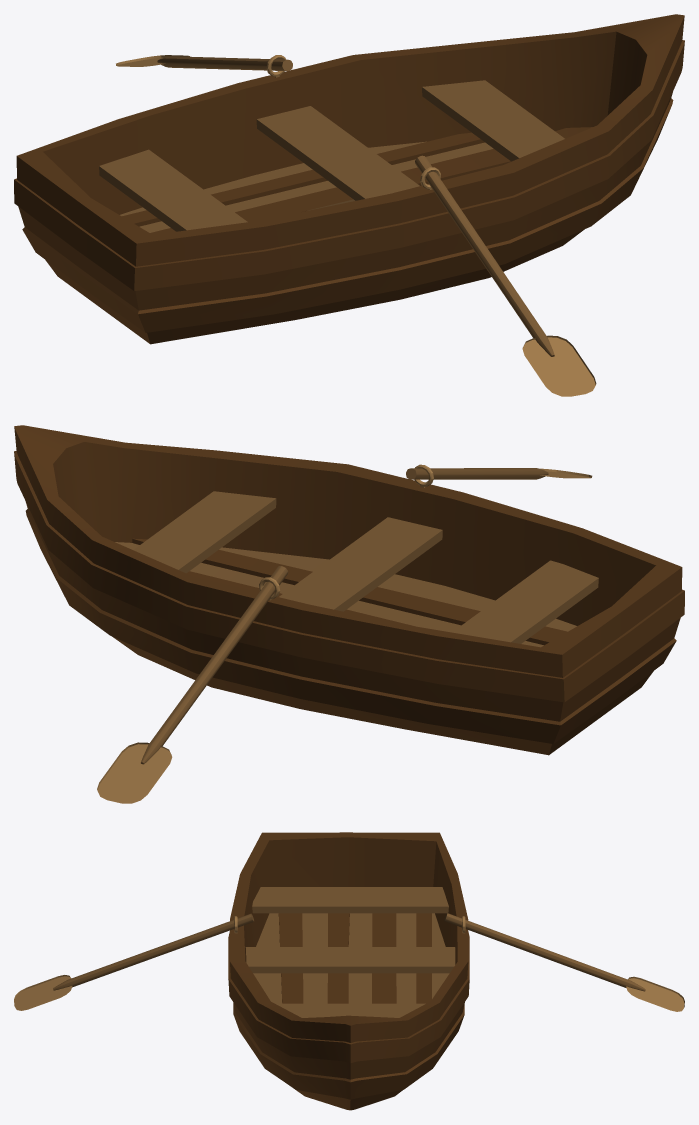
Rendered from rowboat_lowpoly.glb.
The picture shows the model from 3 angles, top to bottom: view 1: azimuth 30°, elevation 25°; view 2: azimuth 150°, elevation 25°; view 3: azimuth 270°, elevation 25°; orthographic projection. The views are drawn at different scales.
Parts seen in each view (by area): view 1: LOD0; view 2: LOD0; view 3: LOD0.
Boxes of the visible parts, x1,y1,x2,y2 form: LOD0: (14,14,684,396); LOD0: (14,425,684,803); LOD0: (14,832,684,1110).
Size of the model in its own units: 2.59 by 0.6209 by 3.32.
